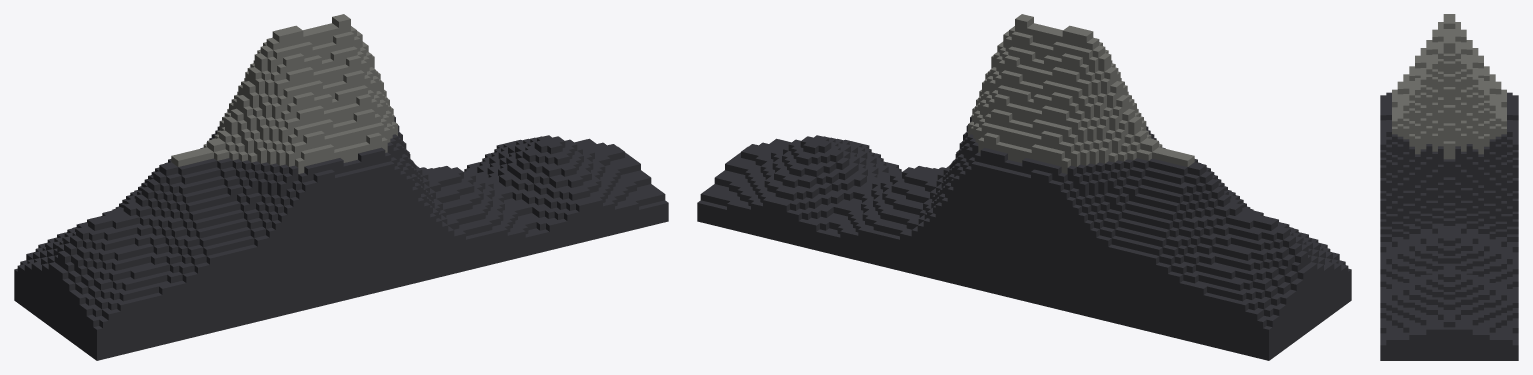
The model's file is ridge_volcanic.obj.
The picture shows the model from 3 angles, left to right: view 1: azimuth 30°, elevation 25°; view 2: azimuth 150°, elevation 25°; view 3: azimuth 270°, elevation 25°; orthographic projection. The views are drawn at different scales.
Size of the model in its own units: 9.6 by 3.9 by 2.4.
1 material, 1 textured.
